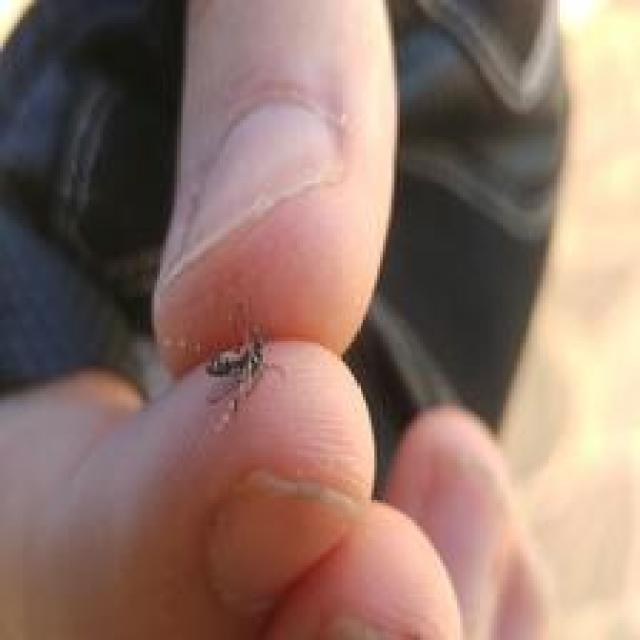Aedes albopictus: (204, 323, 270, 414)
